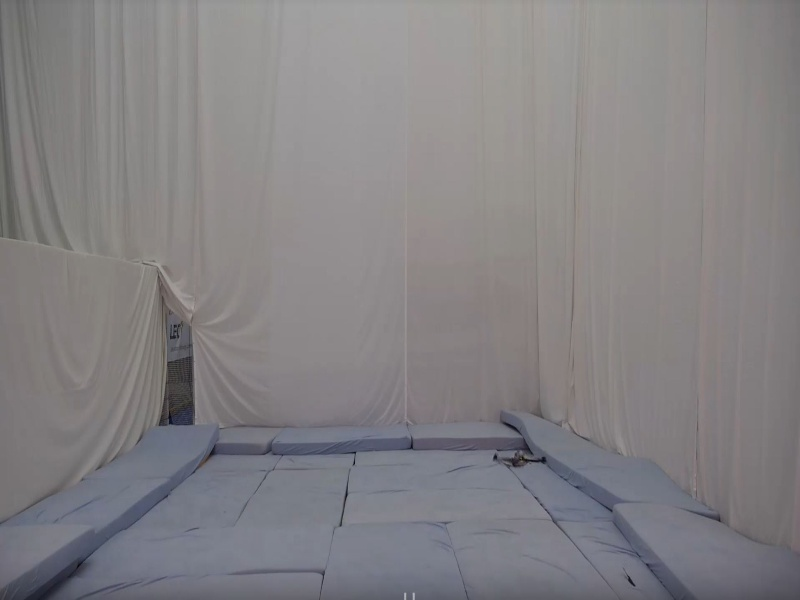drone: (489, 449, 549, 471)
